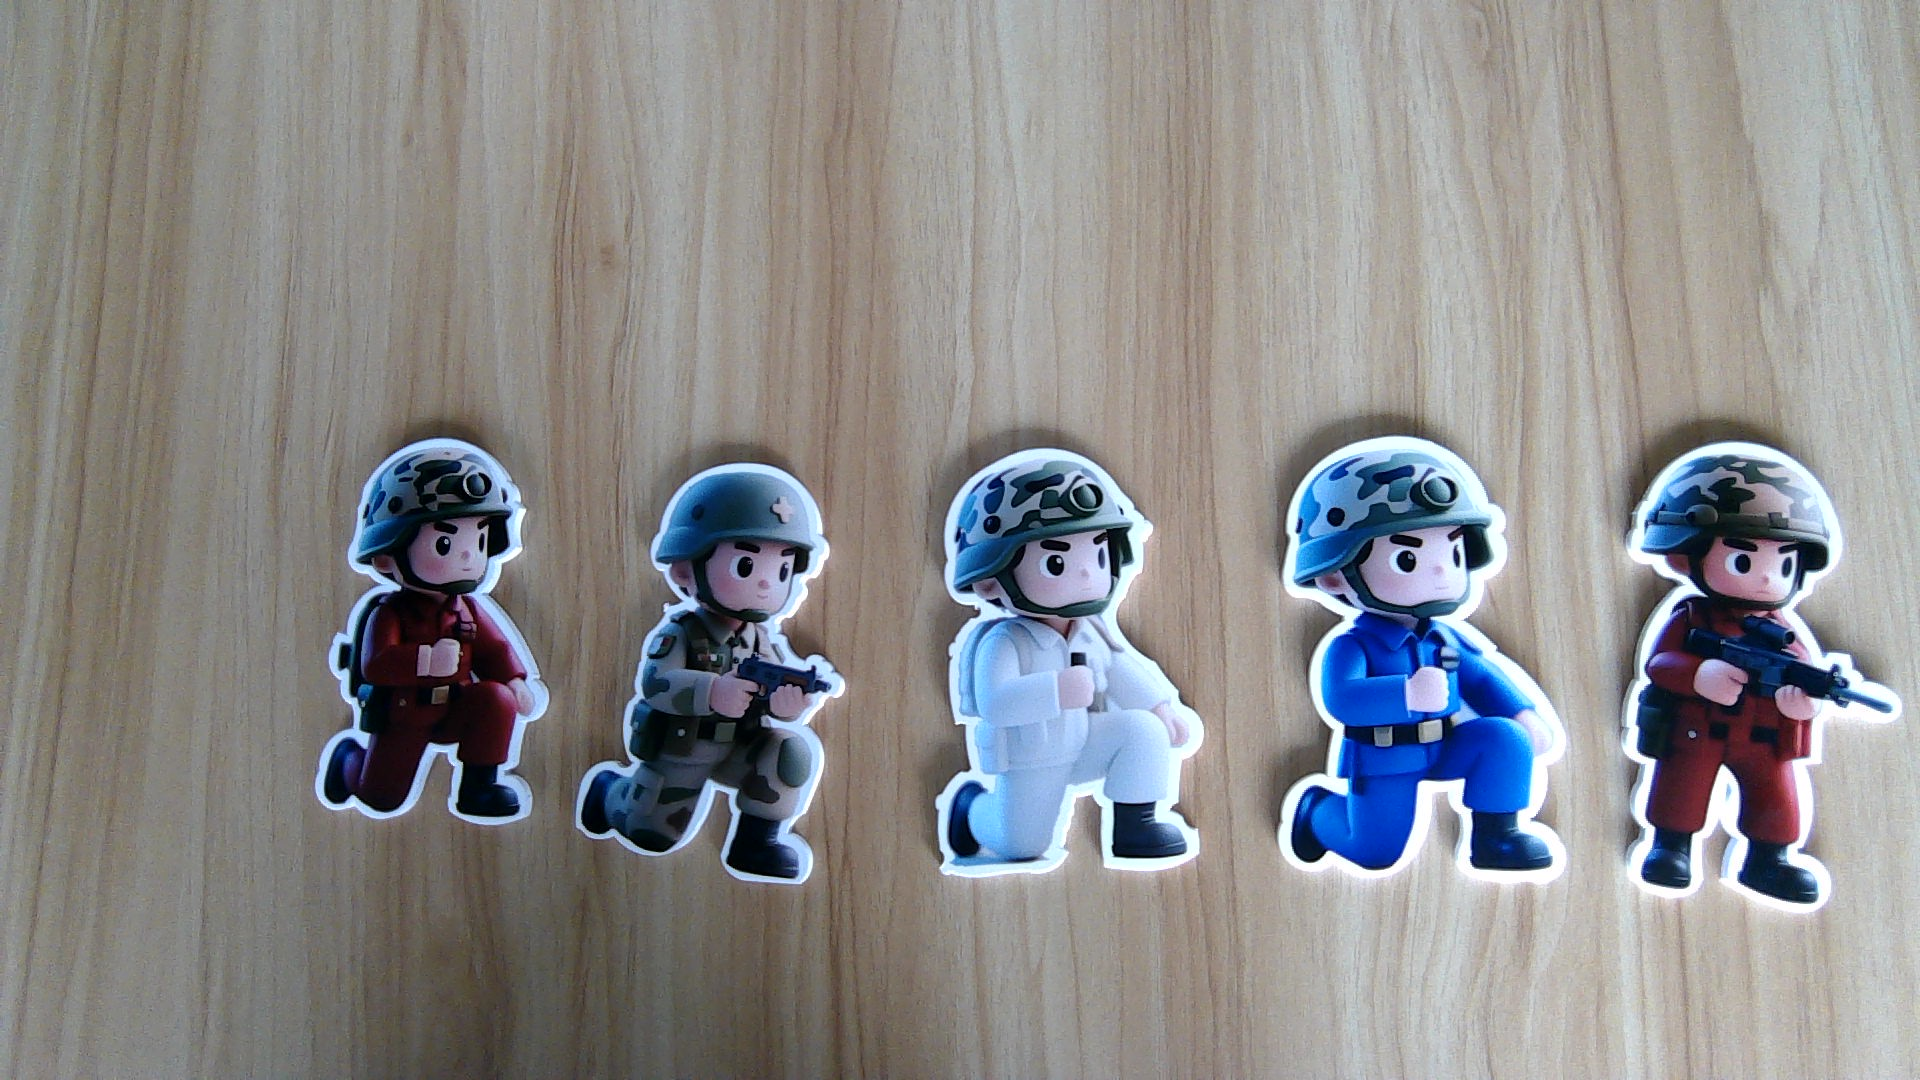人质: (928, 618, 1208, 885)
友军: (572, 615, 845, 880)
敌人1: (1615, 609, 1902, 915), (311, 591, 551, 822)
敌人2: (1274, 618, 1568, 891)
